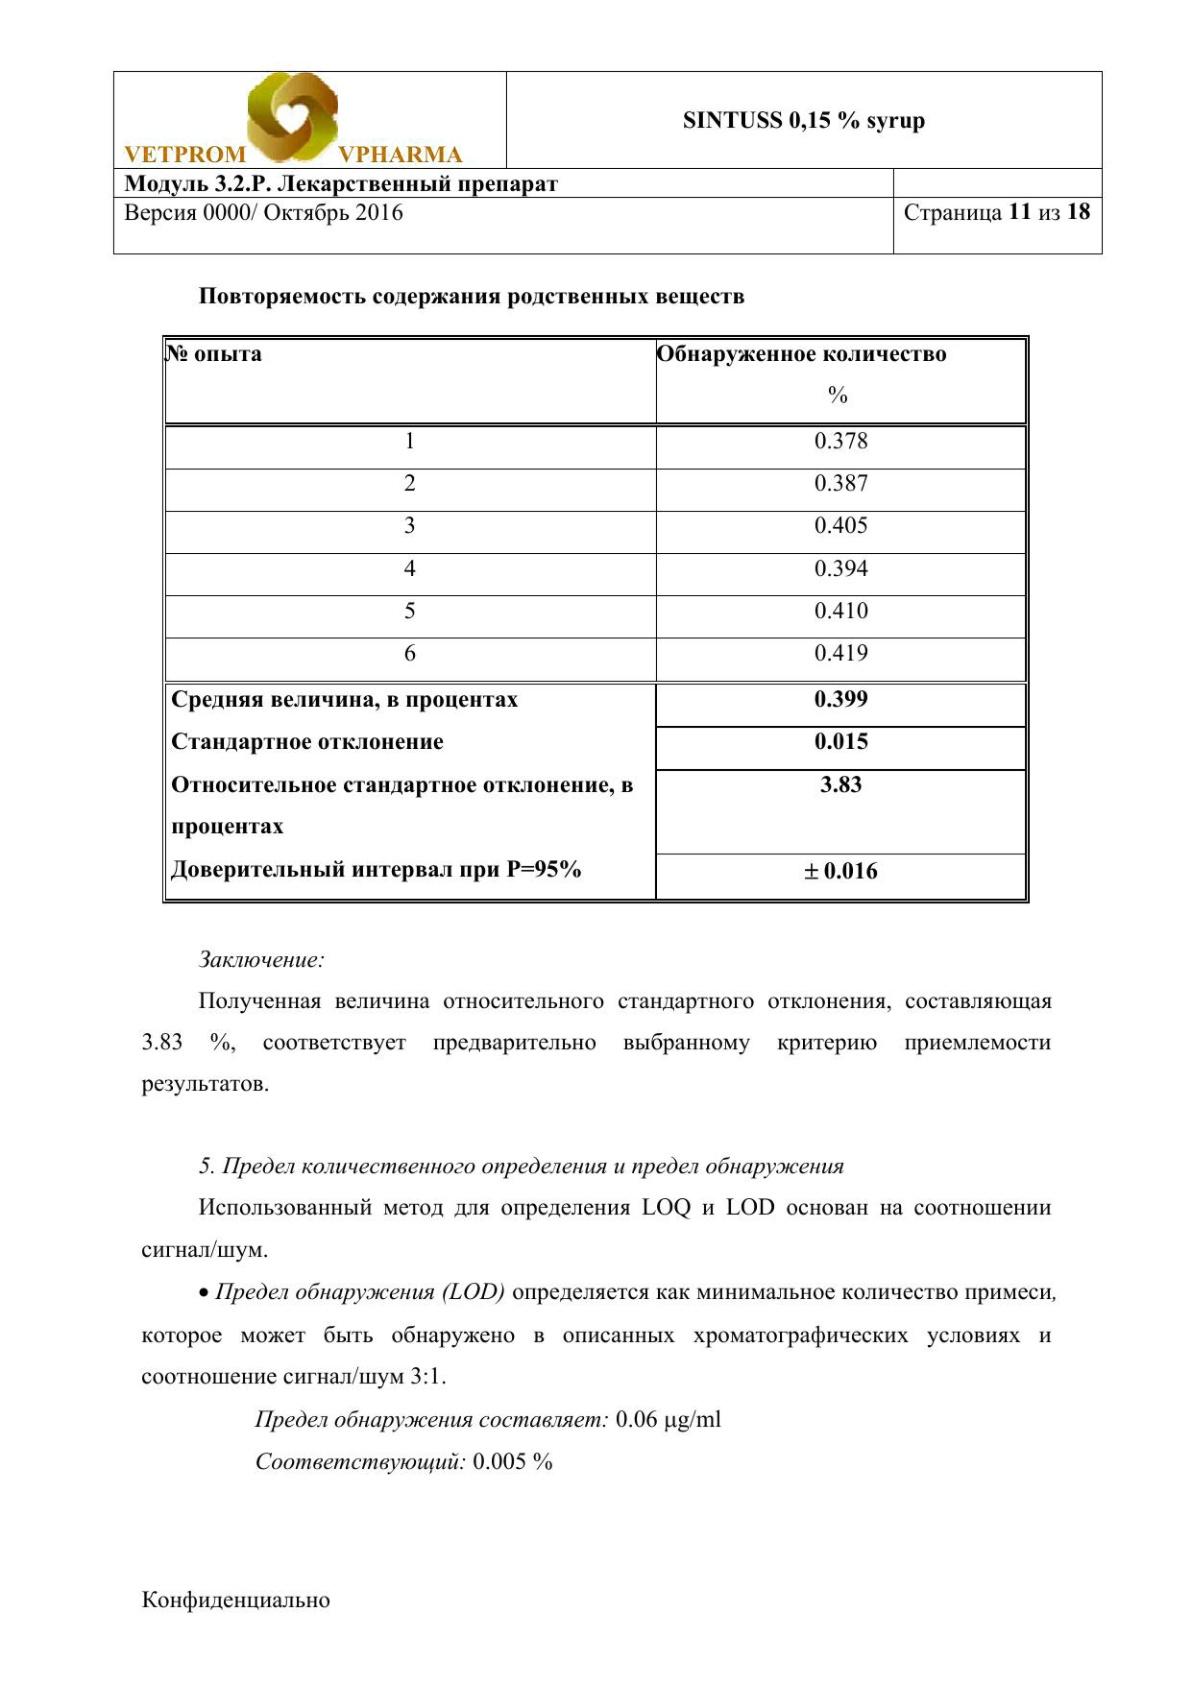merged_cells: (161, 334, 1029, 904), (112, 68, 1103, 255)
